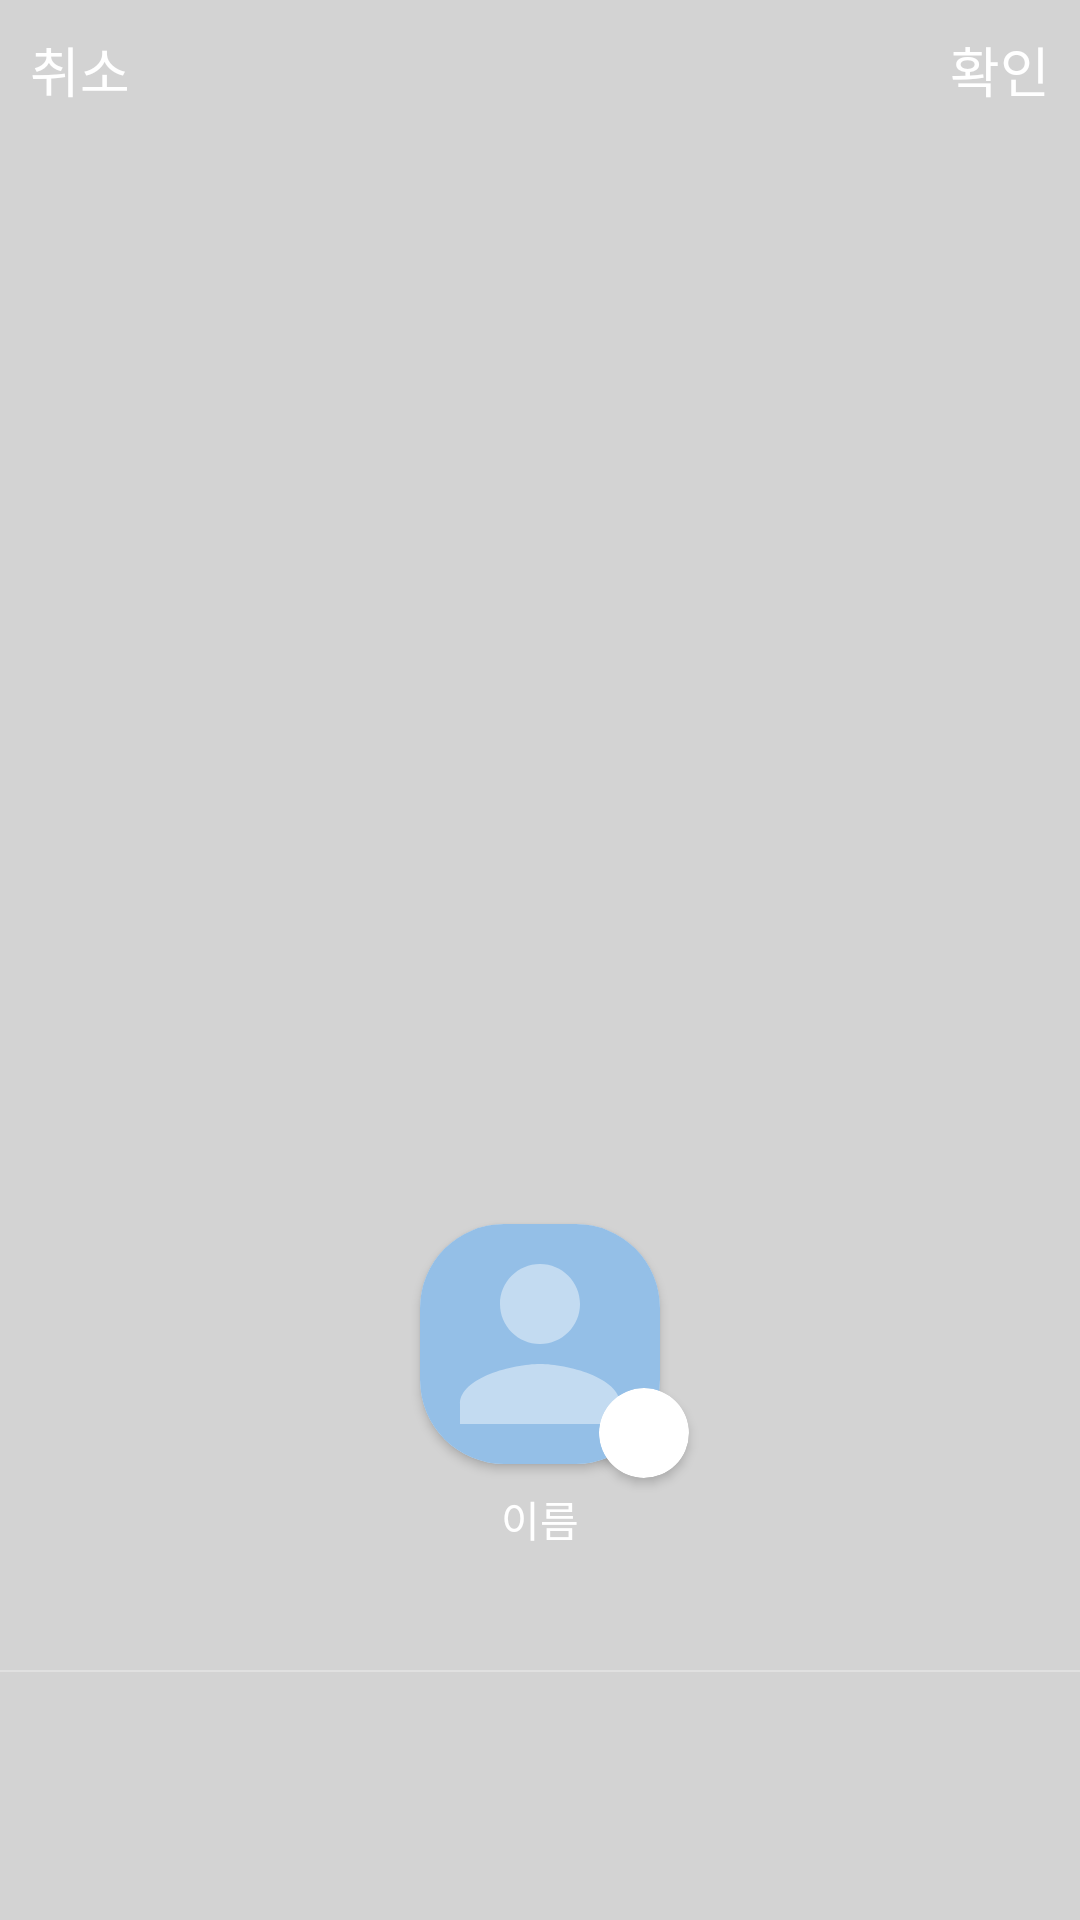

Locate icon controls on the screen. Image size 1080 x 1920, boxes as [x1,y1,x2,y2].
person: [420,1224,660,1464]
